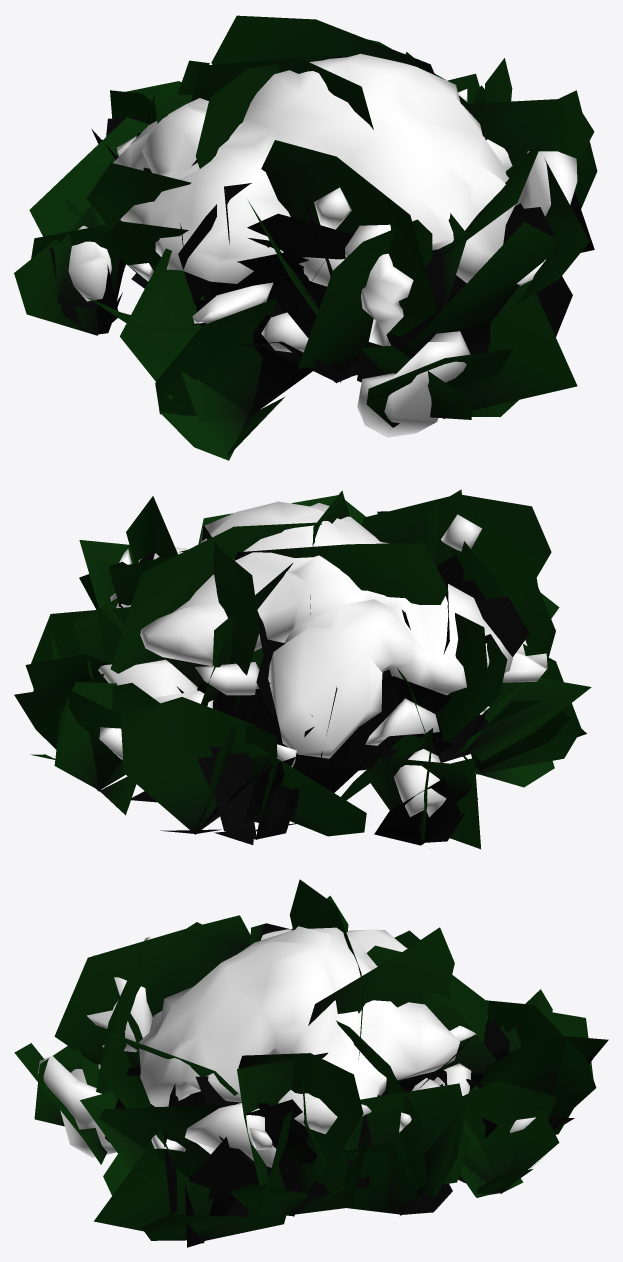
The model's file is SnowBushClumpBRHE_LOD2.fbx.
The picture shows the model from 3 angles, top to bottom: view 1: azimuth 30°, elevation 25°; view 2: azimuth 150°, elevation 25°; view 3: azimuth 270°, elevation 25°; orthographic projection. The views are drawn at different scales.
Visible parts, largest first — view 1: SnowBushClumpBRHE_LOD2; view 2: SnowBushClumpBRHE_LOD2; view 3: SnowBushClumpBRHE_LOD2.
Part boxes in pixels (x1=…): SnowBushClumpBRHE_LOD2: x1=14, y1=15, x2=597, y2=460; SnowBushClumpBRHE_LOD2: x1=14, y1=489, x2=591, y2=849; SnowBushClumpBRHE_LOD2: x1=14, y1=879, x2=608, y2=1247.
Bounding box in the file's own units: 4.49 × 2.7 × 5.01.
